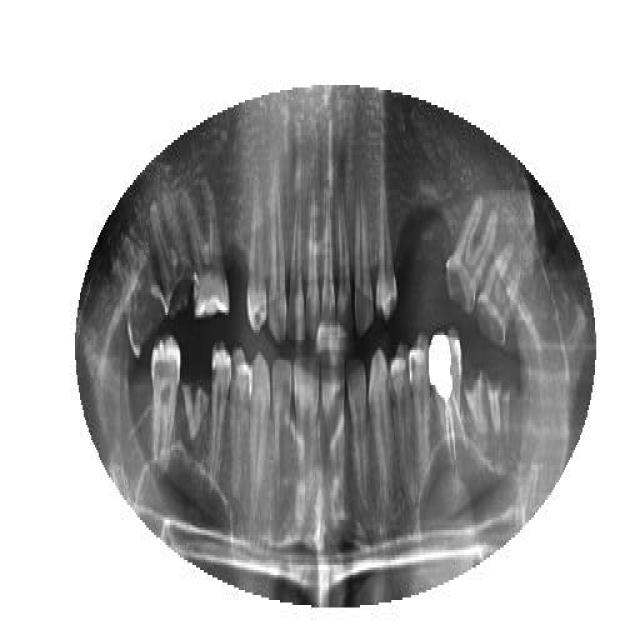Cavity: (445, 197, 497, 315), (150, 202, 198, 320), (475, 242, 523, 350), (125, 252, 169, 358), (180, 363, 211, 445), (467, 355, 488, 440), (485, 355, 501, 440)
Implant: (428, 330, 468, 482)
